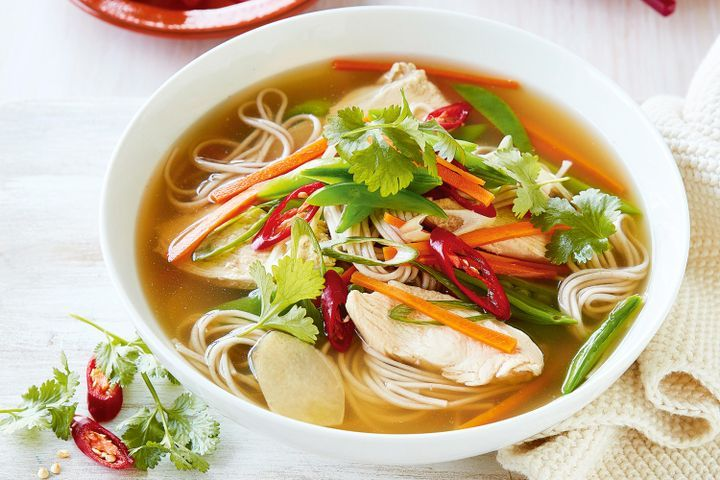Soba: (187, 82, 635, 418)
